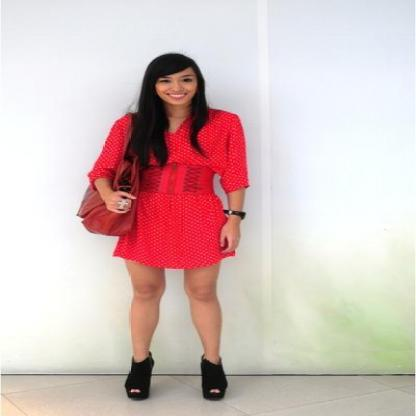bag: (83, 170, 136, 198)
dress: (88, 110, 249, 270)
shoe: (122, 344, 236, 400)
